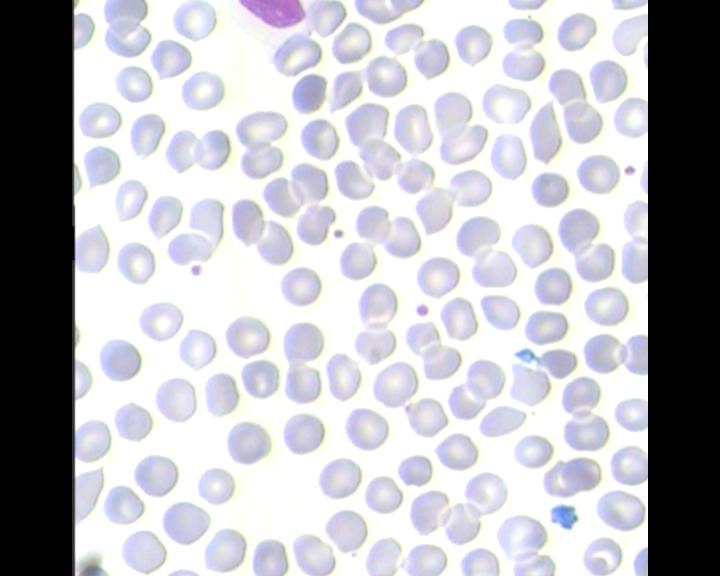mono: (211, 0, 317, 37)
